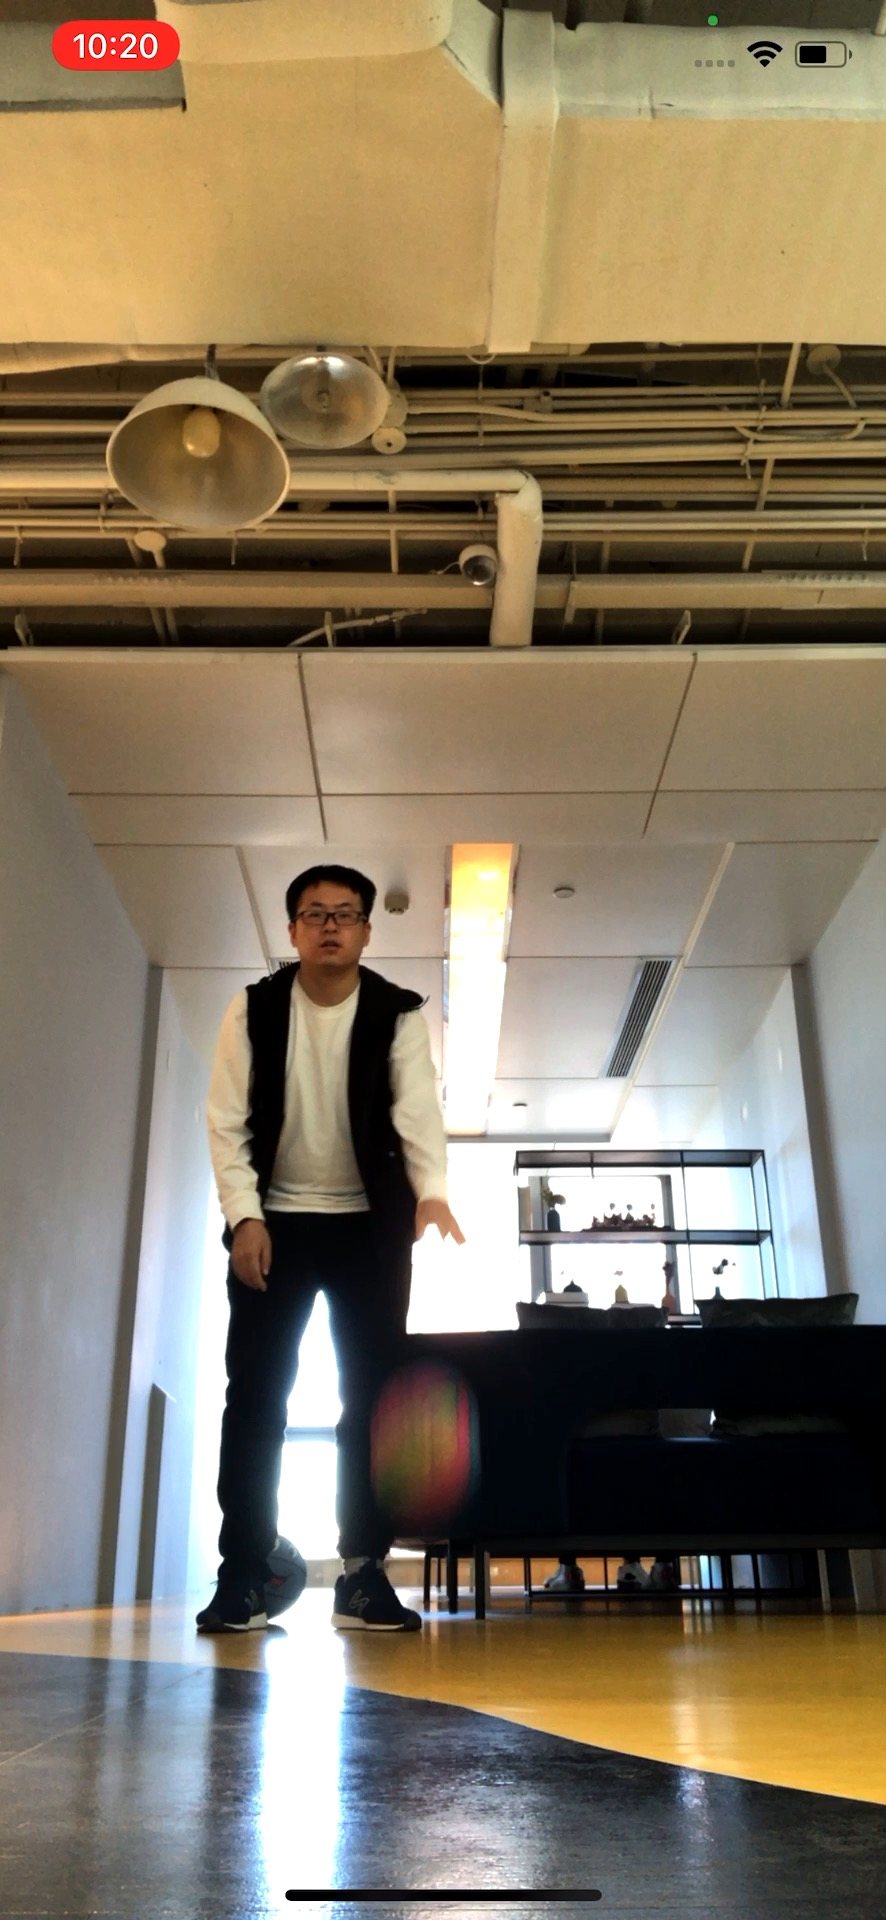ball: (365, 1380, 488, 1506)
